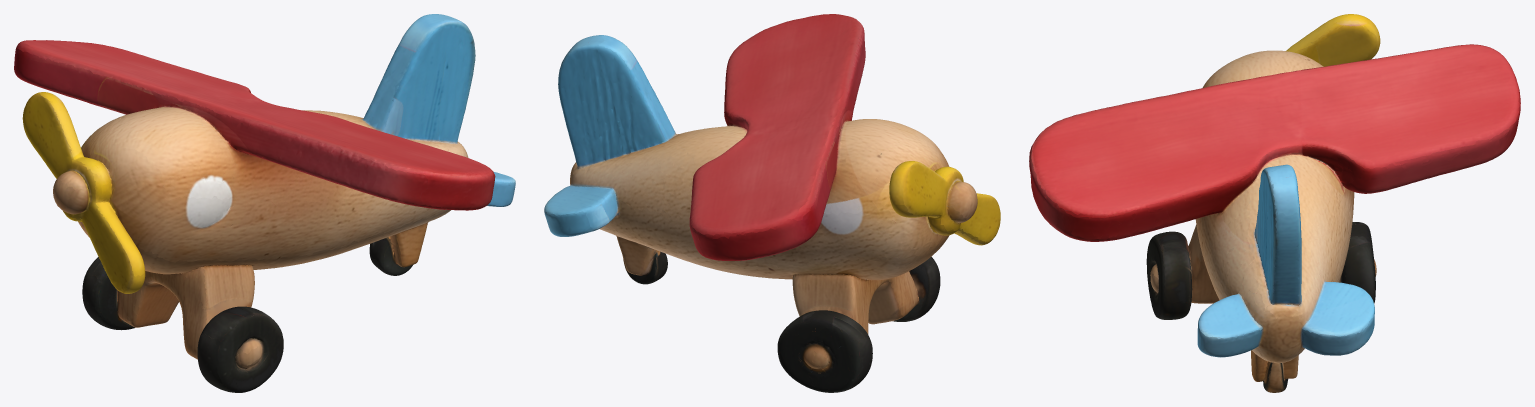
The model's file is toy-plane.glb.
3 views of the same model, side by side, from view 1: azimuth 30°, elevation 25°; view 2: azimuth 150°, elevation 25°; view 3: azimuth 270°, elevation 25° (orthographic). The views are drawn at different scales.
Parts seen in each view (by area): view 1: geometry_0; view 2: geometry_0; view 3: geometry_0.
Boxes of the visible parts, left/top/right/bottom form: geometry_0: left=14, top=14, right=515, bottom=392; geometry_0: left=544, top=14, right=1000, bottom=392; geometry_0: left=1029, top=14, right=1520, bottom=392.
Size of the model in its own units: 0.28 by 0.1681 by 0.2807.
1 material, 1 textured.
